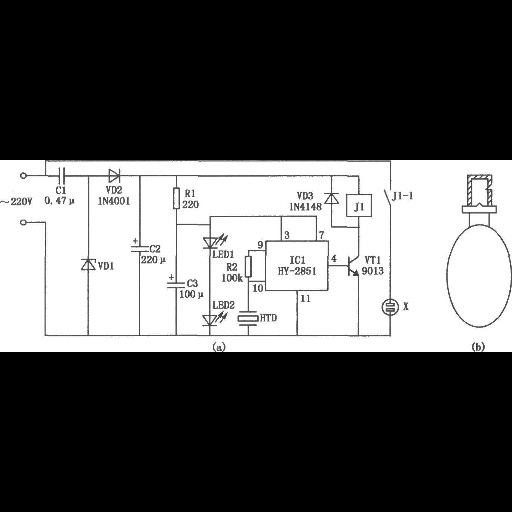capacitor: (54, 166, 70, 186)
firstpolarcapacitor: (125, 236, 150, 254), (165, 272, 186, 290)
firstresistance: (242, 254, 255, 279), (171, 184, 181, 213)
npn: (343, 252, 361, 281)
seconddiode: (323, 187, 341, 209), (106, 167, 124, 185)
secondled: (198, 231, 231, 250), (200, 310, 230, 329)
